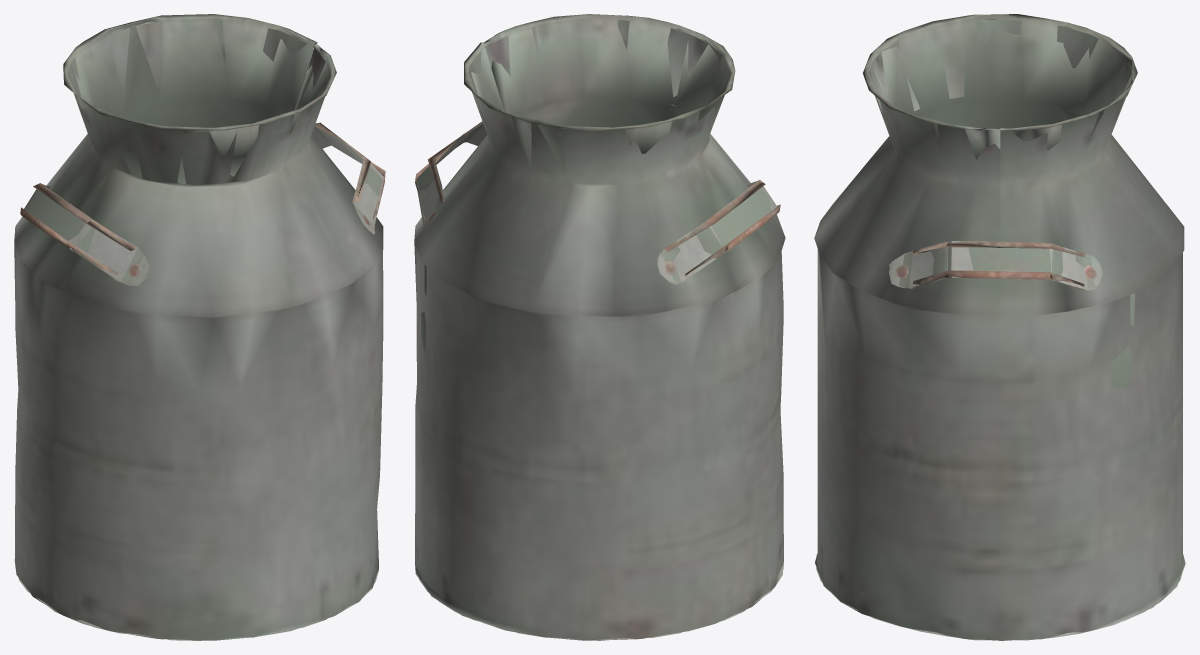
File: metal_jug.glb
3 renders of one model, left to right at view 1: azimuth 30°, elevation 25°; view 2: azimuth 150°, elevation 25°; view 3: azimuth 270°, elevation 25°, orthographic.
Visible parts, largest first — view 1: metal_jug; view 2: metal_jug; view 3: metal_jug.
Boxes of the visible parts, bbox=[...] form: metal_jug: bbox=[14, 14, 385, 640]; metal_jug: bbox=[414, 14, 785, 640]; metal_jug: bbox=[814, 14, 1185, 640].
Size of the model in its own units: 0.1963 by 0.2875 by 0.1966.
1 material, 1 textured.
